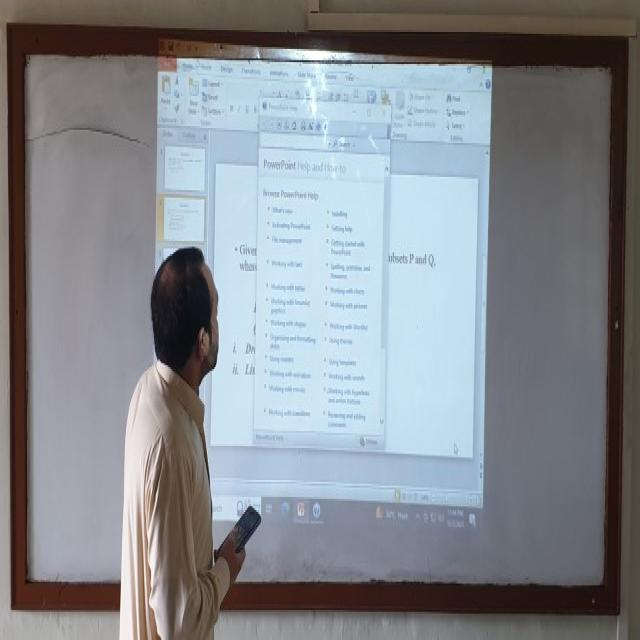Instructor: (118, 238, 226, 638)
Slide: (152, 36, 493, 536)
White-board: (11, 42, 622, 598)
